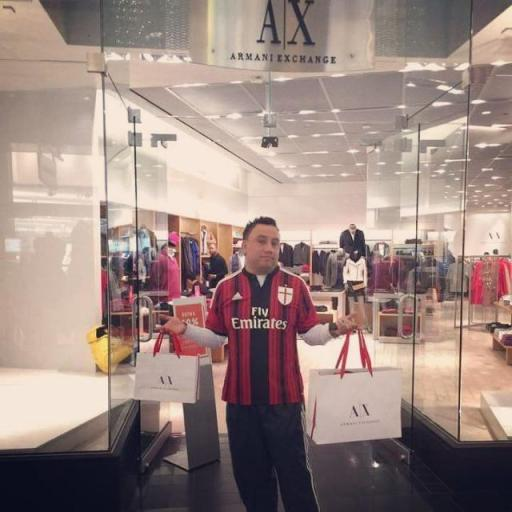Emirates: (231, 304, 290, 330)
